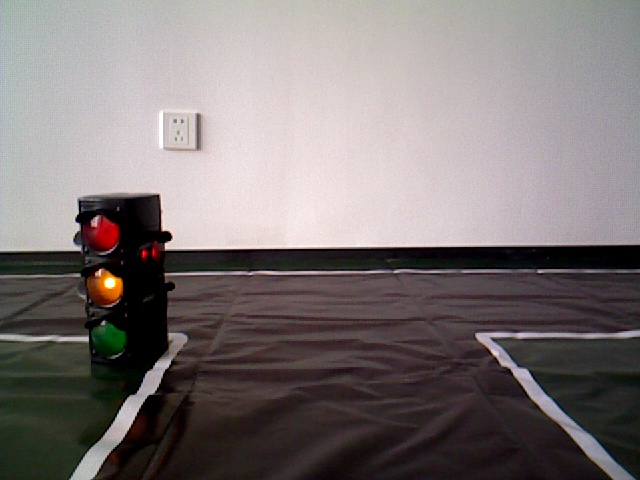yellow: (73, 200, 166, 377)
